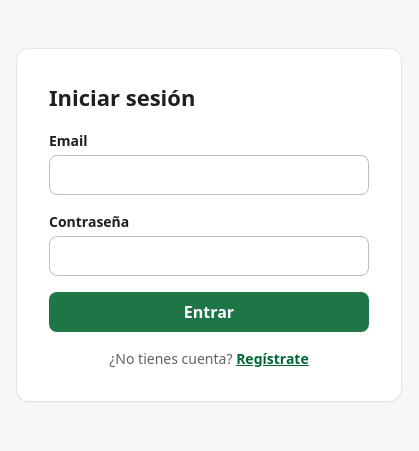
Test case: auth flow › shows an error banner when login returns 401
Step 1. Type "nico@example.com" into the field labelled "Email" → [209, 175], box [49, 155, 369, 195]
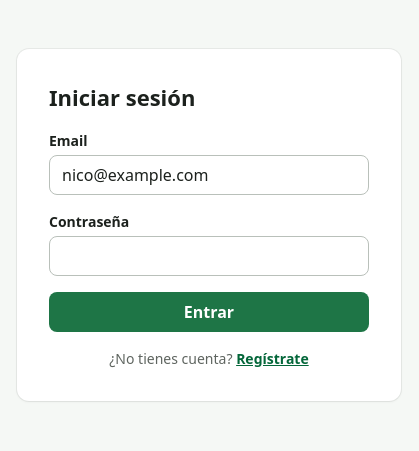
Step 2. Type "wrong-pass" into the password field labelled "Contraseña" → [209, 256], box [49, 236, 369, 276]
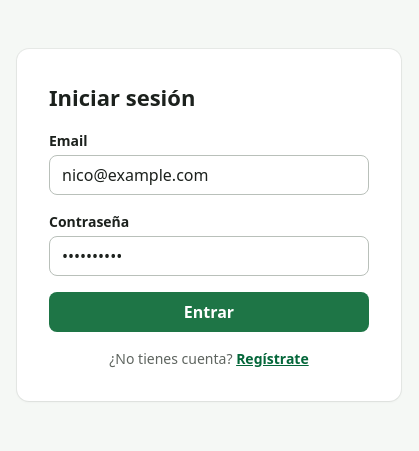
Step 3. Click the button "Entrar" → [209, 312], box [49, 292, 369, 332]
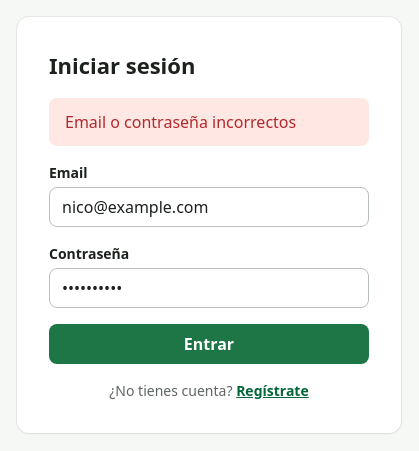
Expected: the heading "Iniciar sesión" is shown, [49, 50, 195, 80]
Result: the message reads "Email o contraseña incorrectos" at [65, 111, 296, 133]
